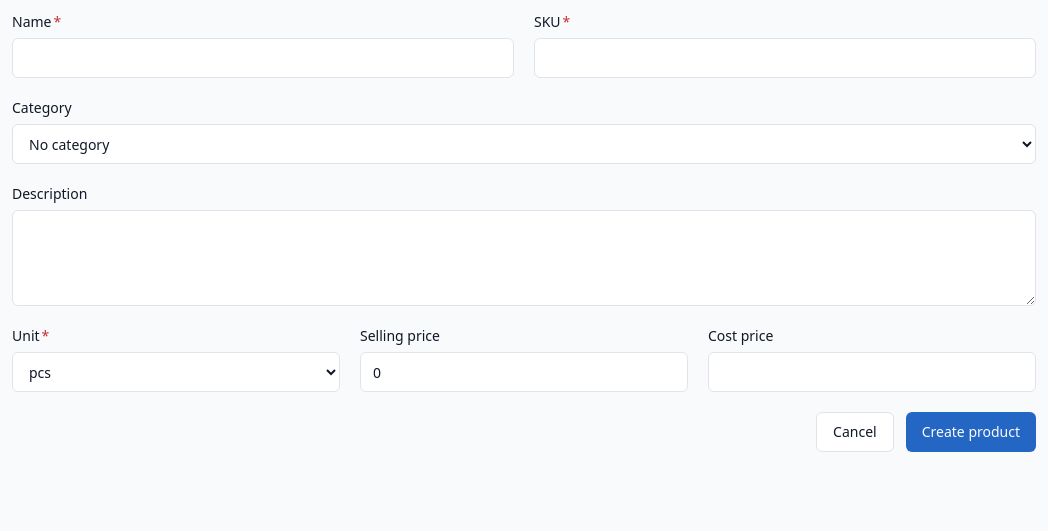
Test case: Product form › shows a safe form-level mutation failure without exposing unknown details
The width and height of the screenshot is (1048, 531).
Type "Widget Cable" into the field labelled "Name*".
click(263, 58); type("Widget Cable")  # box [12, 38, 514, 78]
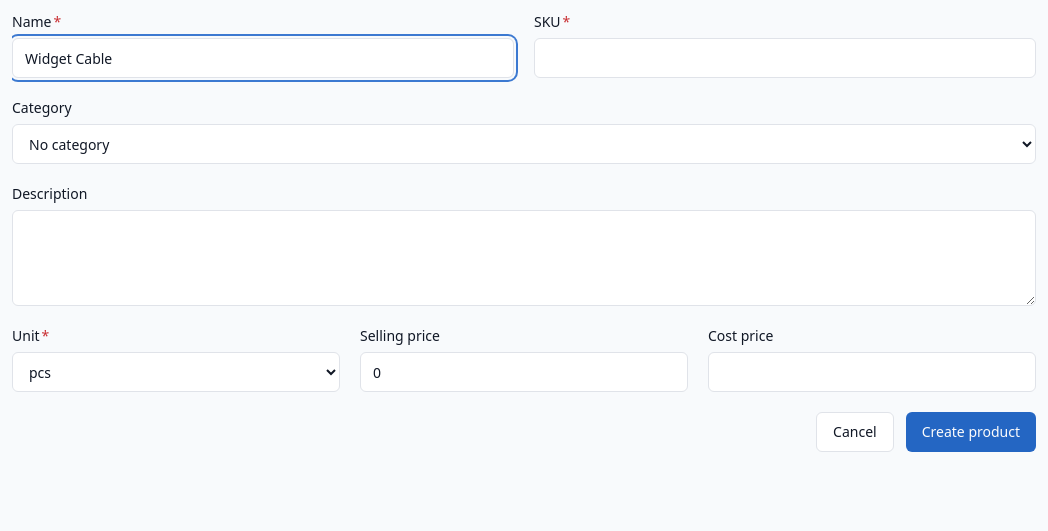
Type "WGT-CBL-01" into the field labelled "SKU*".
click(785, 58); type("WGT-CBL-01")  # box [534, 38, 1036, 78]
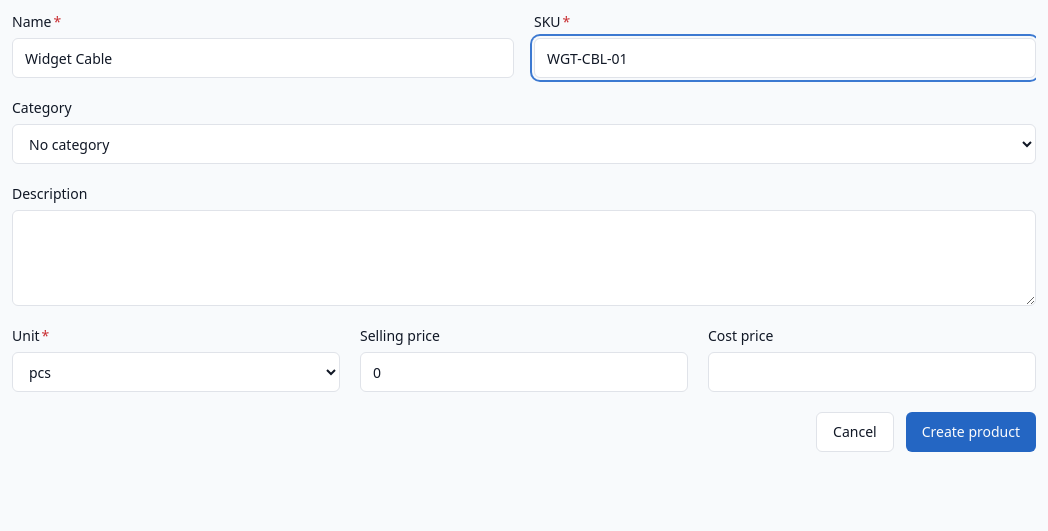
Click the button "Create product".
click(971, 432)  # box [906, 412, 1036, 452]
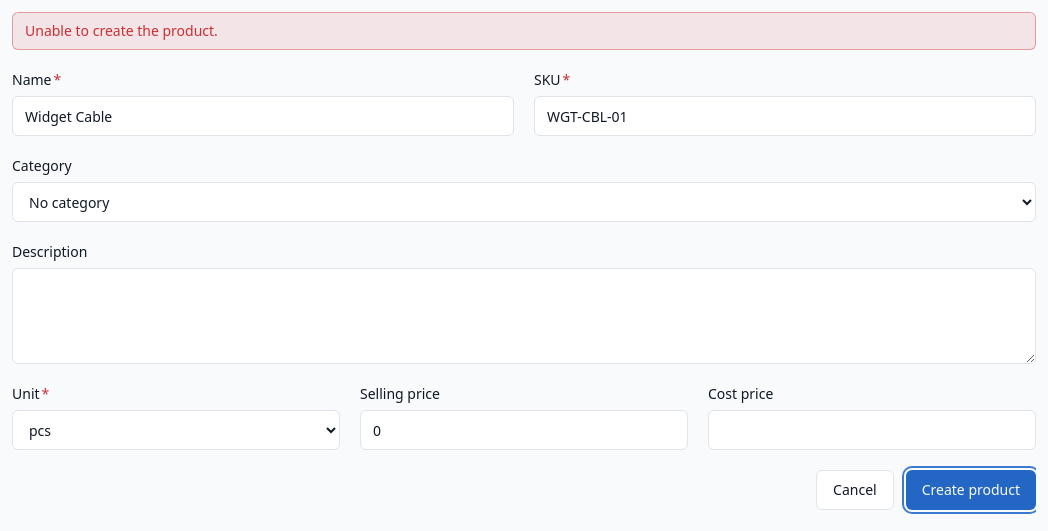
Expected: the message reads "Unable to create the product.", [25, 21, 218, 40]
